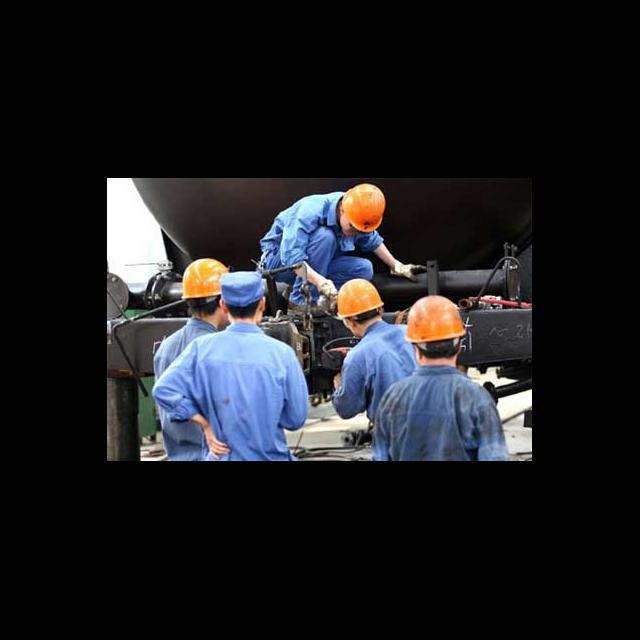Capacete: (406, 295, 465, 342), (342, 184, 385, 232), (182, 259, 227, 299), (337, 279, 383, 318)
